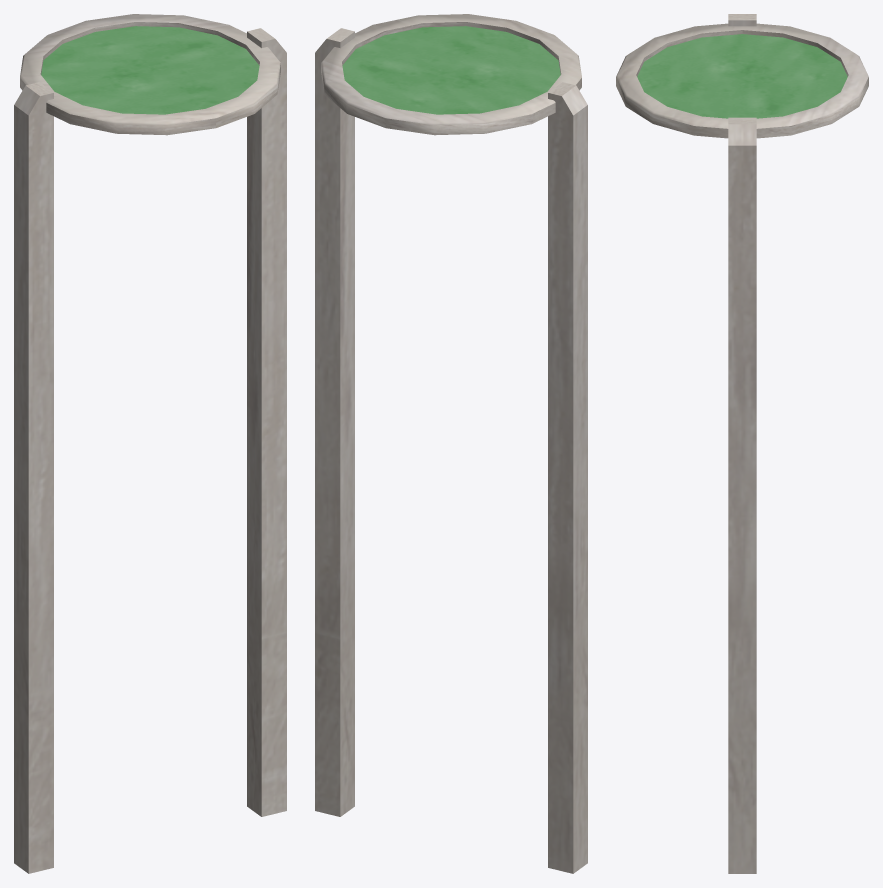
The model's file is trampoline.glb.
The picture shows the model from 3 angles, left to right: view 1: azimuth 30°, elevation 25°; view 2: azimuth 150°, elevation 25°; view 3: azimuth 270°, elevation 25°; orthographic projection. The views are drawn at different scales.
Parts seen in each view (by area): view 1: Cube, Cube.001, Cylinder.001, Cylinder; view 2: Cube, Cube.001, Cylinder.001, Cylinder; view 3: Cube.001, Cylinder.001, Cylinder.
Part boxes in pixels (x1,y1,x2,y2): Cube: [14, 82, 53, 873]; Cube.001: [247, 28, 286, 816]; Cylinder.001: [41, 26, 259, 114]; Cylinder: [20, 14, 280, 135]; Cube: [548, 82, 587, 873]; Cube.001: [315, 28, 354, 816]; Cylinder.001: [342, 26, 560, 114]; Cylinder: [321, 14, 581, 135]; Cube.001: [728, 117, 756, 873]; Cylinder.001: [637, 34, 847, 118]; Cylinder: [616, 23, 868, 138].
Bounding box in the file's own units: 2.27 × 6.5 × 2.
Materials: 1 (1 with a texture image).
